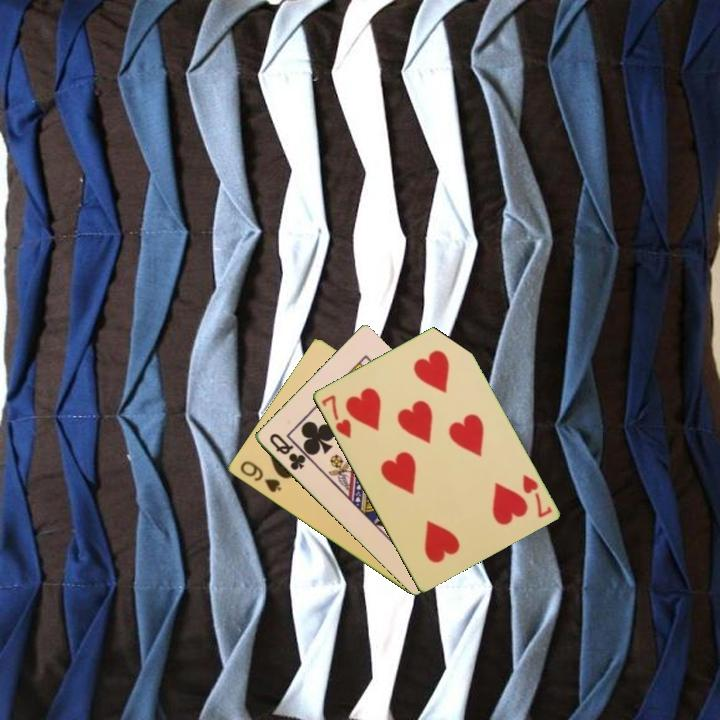7h: (518, 470, 555, 521), (317, 391, 354, 441)
9s: (236, 457, 284, 495)
Qc: (265, 430, 308, 473)
